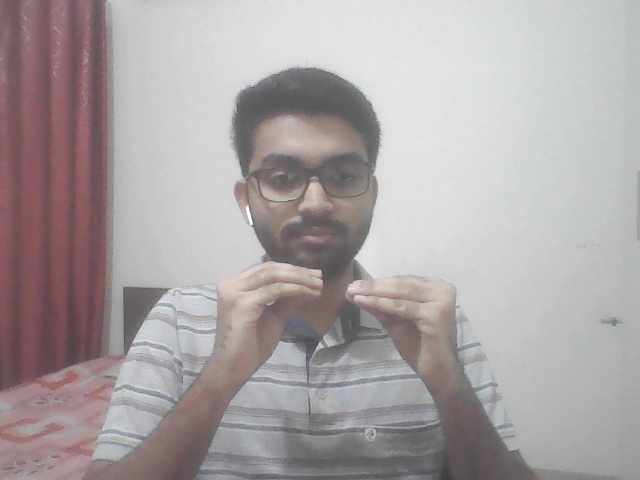more: (170, 250, 487, 409)
